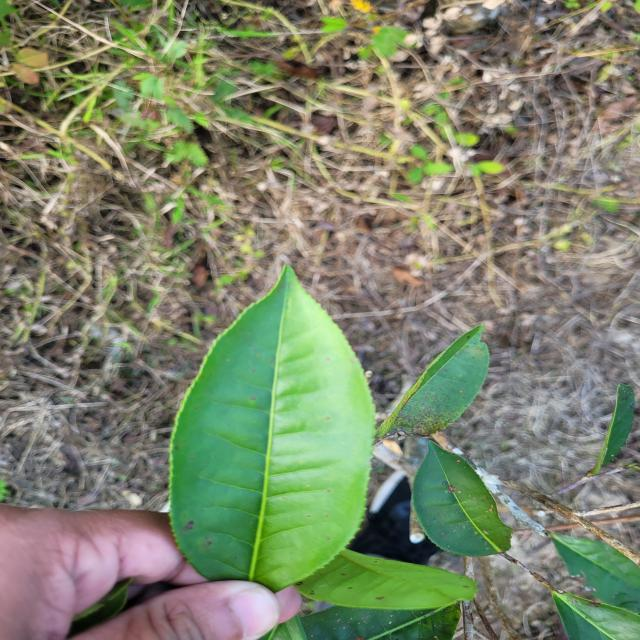Category D(7+ days, Not for Tea): (151, 253, 387, 598)
